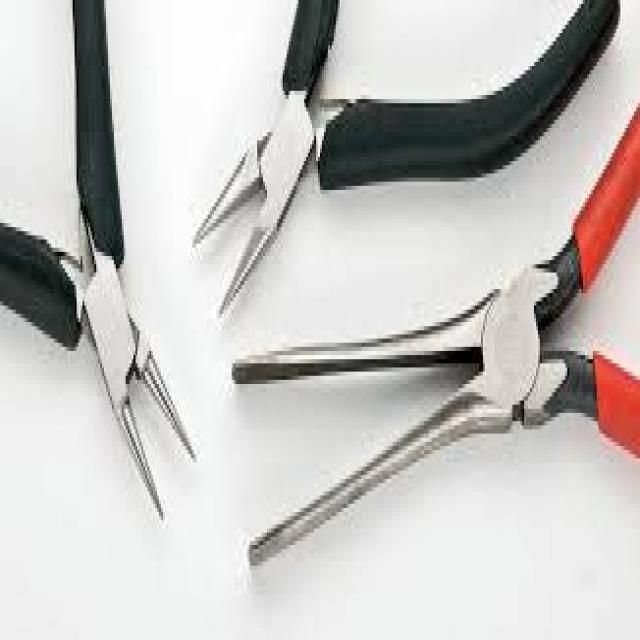pliers: (232, 264, 640, 606), (192, 0, 614, 319), (0, 0, 200, 527)
